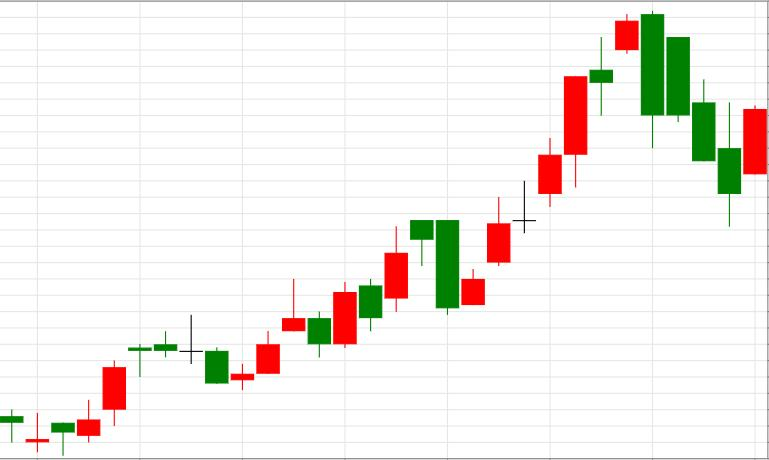bearish_engulfing_fall: (461, 11, 664, 306)
